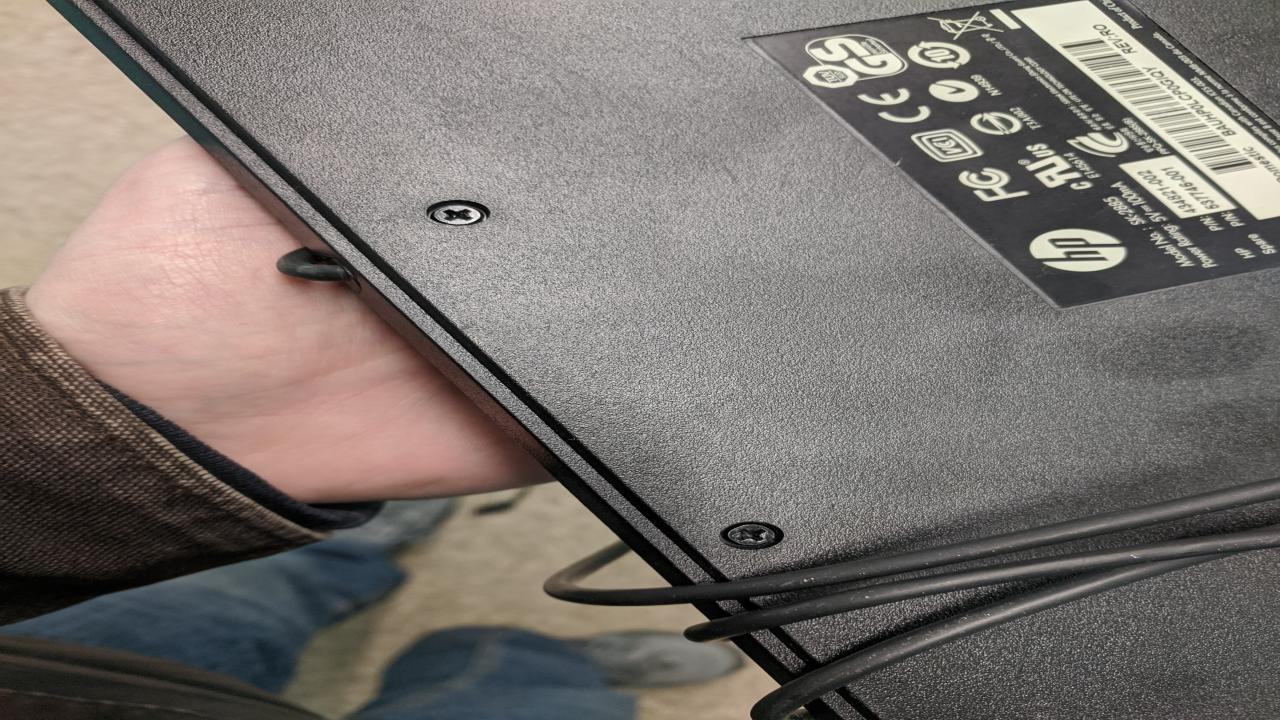CRS: (429, 199, 485, 227), (722, 521, 782, 545)
